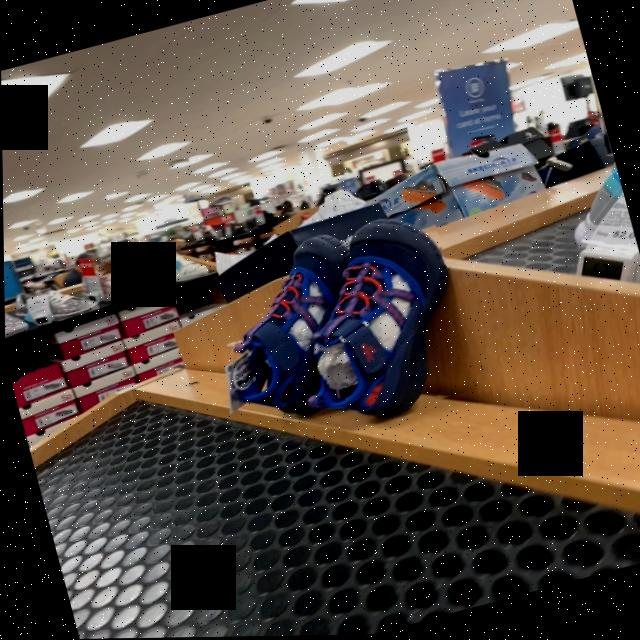shoe: (313, 219, 449, 417)
